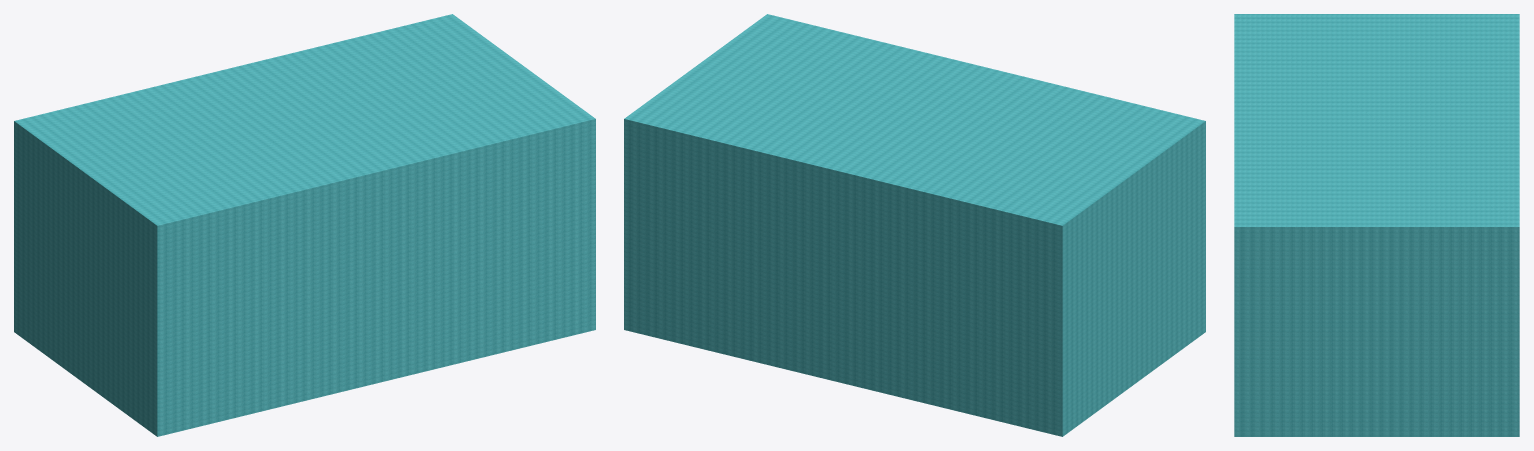
3 renders of one model, left to right at view 1: azimuth 30°, elevation 25°; view 2: azimuth 150°, elevation 25°; view 3: azimuth 270°, elevation 25°, orthographic.
Parts seen in each view (by area): view 1: woolyyoshi_course_szs_-_Copy-SKP--lightblueyarn; view 2: woolyyoshi_course_szs_-_Copy-SKP--lightblueyarn; view 3: woolyyoshi_course_szs_-_Copy-SKP--lightblueyarn.
Part boxes in pixels (left/top/right/bottom): woolyyoshi_course_szs_-_Copy-SKP--lightblueyarn: left=14, top=14, right=595, bottom=436; woolyyoshi_course_szs_-_Copy-SKP--lightblueyarn: left=624, top=14, right=1205, bottom=436; woolyyoshi_course_szs_-_Copy-SKP--lightblueyarn: left=1234, top=14, right=1519, bottom=436.
Bounding box in the file's own units: 152156 × 82313 × 86094.
Materials: 12 (12 with a texture image).
